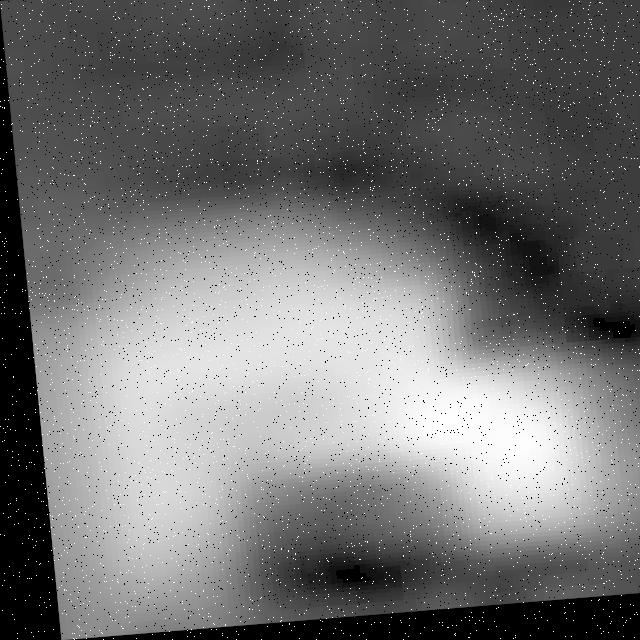person: (17, 172, 640, 624)
